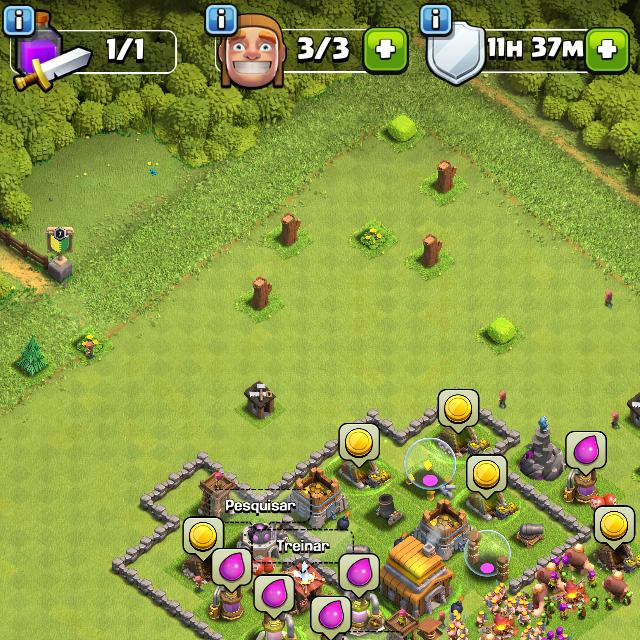Elixir: (567, 431, 607, 478), (340, 553, 381, 598), (312, 595, 352, 640), (212, 549, 252, 592), (256, 574, 294, 619)
coin: (467, 452, 507, 500), (594, 506, 636, 551), (184, 517, 224, 563), (339, 423, 379, 469), (439, 388, 478, 434)
